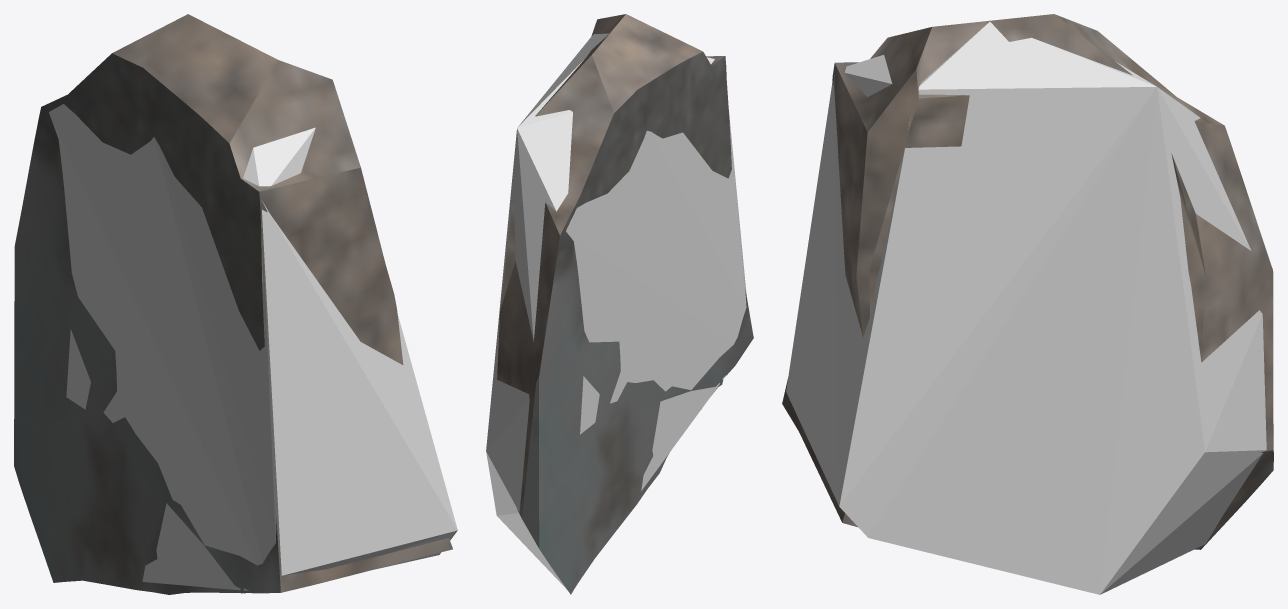
File: SM_Rock_43.fbx
3 views of the same model, side by side, from view 1: azimuth 30°, elevation 25°; view 2: azimuth 150°, elevation 25°; view 3: azimuth 270°, elevation 25° (orthographic). The views are drawn at different scales.
Parts seen in each view (by area): view 1: SM_Rock_43_ConvexHulls, SM_Rock_43_LOD0; view 2: SM_Rock_43_LOD0, SM_Rock_43_ConvexHulls; view 3: SM_Rock_43_ConvexHulls, SM_Rock_43_LOD0.
Boxes of the visible parts, bbox=[...] form: SM_Rock_43_ConvexHulls: bbox=[49, 104, 457, 590]; SM_Rock_43_LOD0: bbox=[14, 14, 452, 594]; SM_Rock_43_LOD0: bbox=[497, 14, 753, 594]; SM_Rock_43_ConvexHulls: bbox=[486, 33, 746, 589]; SM_Rock_43_ConvexHulls: bbox=[786, 22, 1266, 594]; SM_Rock_43_LOD0: bbox=[782, 14, 1273, 549].
Bounding box in the file's own units: 11.44 × 25.64 × 32.2.
